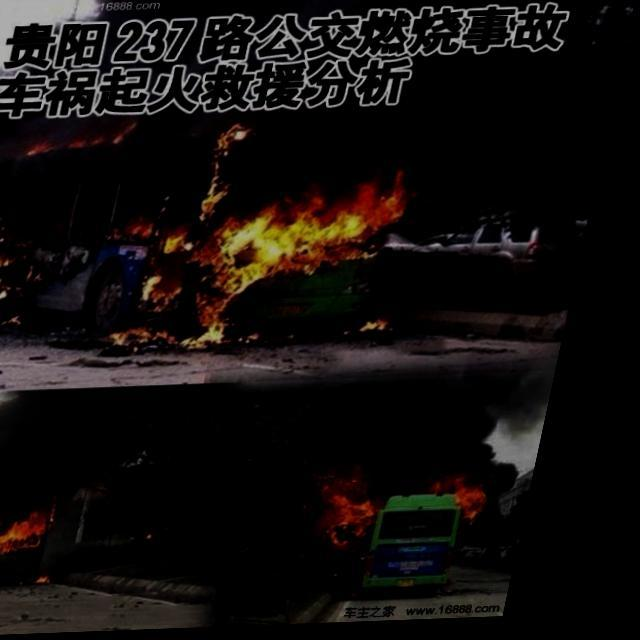Fire: (0, 128, 435, 364), (322, 454, 528, 564), (0, 474, 98, 602)
